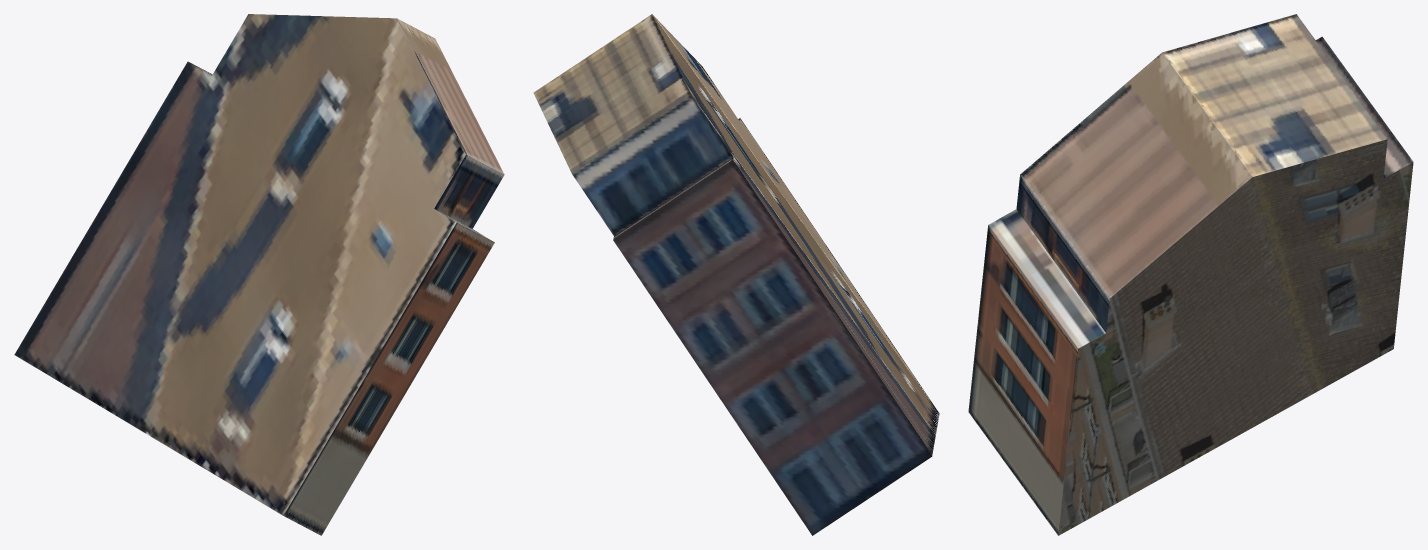
3 views of the same model, side by side, from view 1: azimuth 30°, elevation 25°; view 2: azimuth 150°, elevation 25°; view 3: azimuth 270°, elevation 25° (orthographic). The views are drawn at different scales.
Visible parts, largest first — view 1: BAG_0599100000650050 (×2); view 2: BAG_0599100000650050 (×2); view 3: BAG_0599100000650050 (×4).
Part boxes in pixels (x1,y1,x2,y2): BAG_0599100000650050 (×2): (14, 14, 504, 535); BAG_0599100000650050 (×2): (533, 14, 939, 535); BAG_0599100000650050 (×4): (968, 14, 1413, 535).
Size of the model in its own units: 17.45 by 18.58 by 13.54.
1 material, 1 textured.
